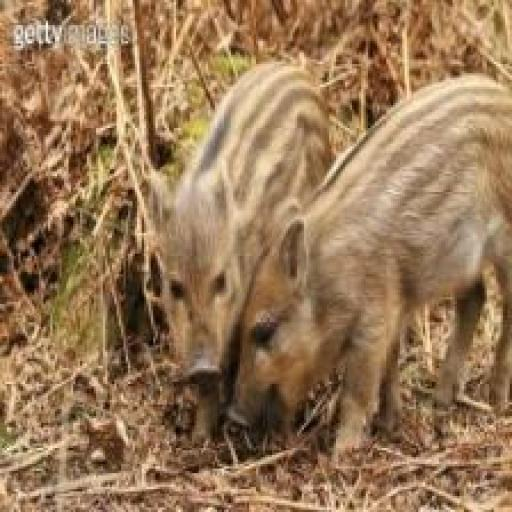Pig: (224, 68, 511, 468), (142, 46, 336, 451)
